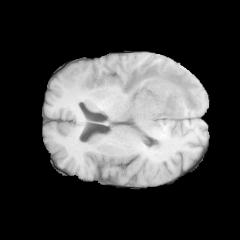glioma: (121, 61, 199, 152)
